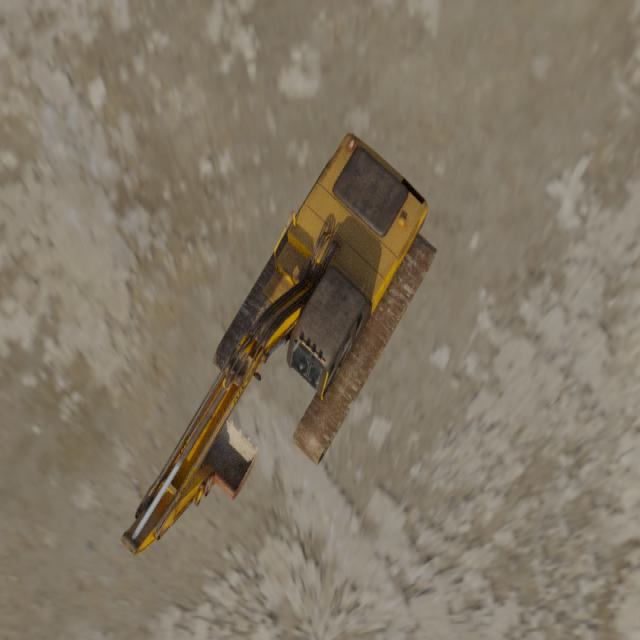excavator: (119, 132, 437, 556)
